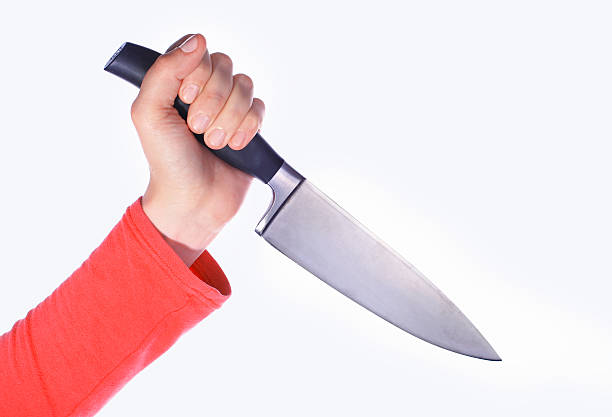knife: (100, 39, 505, 363)
